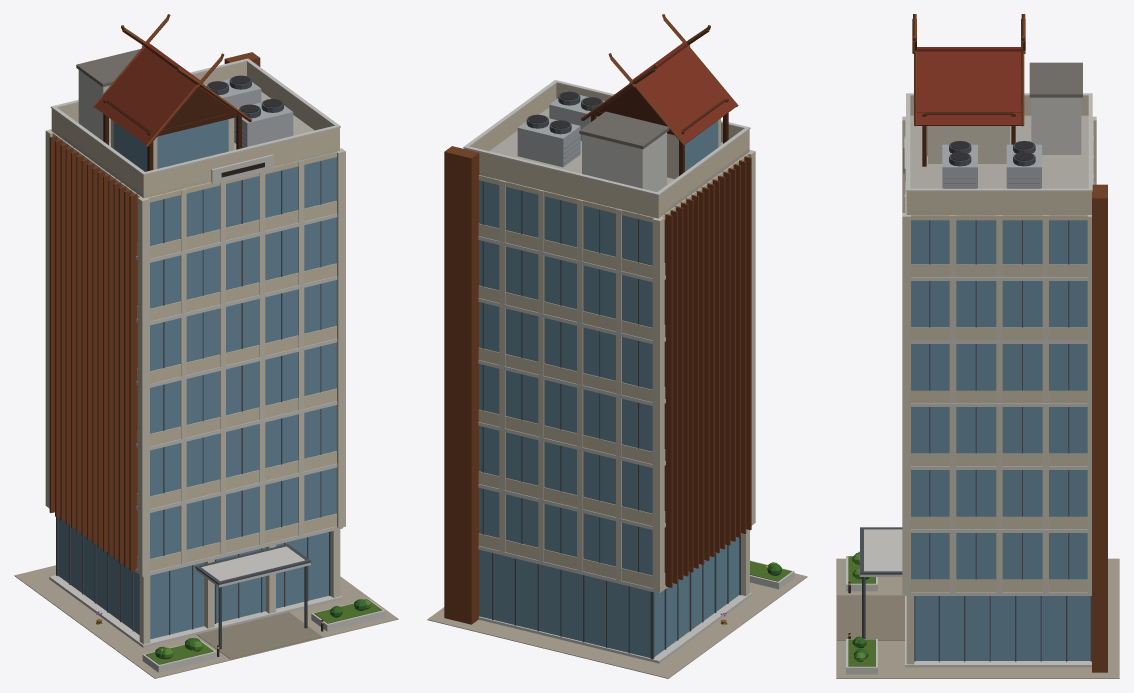
The model's file is shop_3.glb.
3 views of the same model, side by side, from view 1: azimuth 30°, elevation 25°; view 2: azimuth 150°, elevation 25°; view 3: azimuth 270°, elevation 25° (orthographic).
Visible parts, largest first — view 1: body; view 2: body; view 3: body.
Part boxes in pixels (box(x1,y1,x2,y2)): body: box(14, 14, 398, 678); body: box(427, 14, 807, 678); body: box(836, 14, 1119, 678).
Bounding box in the file's own units: 15.9 × 35.83 × 15.9.
